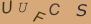C: (48, 3, 61, 16)
F: (32, 11, 47, 24)
S: (76, 3, 88, 17)
U: (1, 1, 13, 14), (18, 2, 28, 13)
